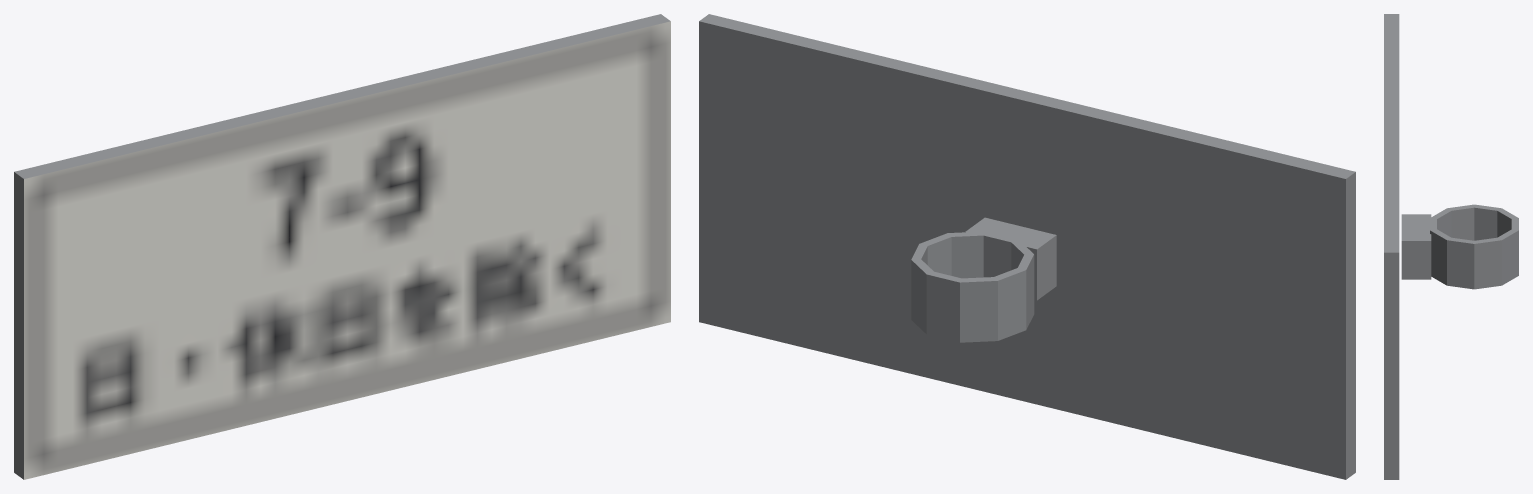
Rendered from SM_Street_SignSub_Time_01.fbx.
The picture shows the model from 3 angles, left to right: view 1: azimuth 30°, elevation 25°; view 2: azimuth 150°, elevation 25°; view 3: azimuth 270°, elevation 25°; orthographic projection. The views are drawn at different scales.
Parts seen in each view (by area): view 1: SM_Street_SignSub_Time_01; view 2: SM_Street_SignSub_Time_01; view 3: SM_Street_SignSub_Time_01.
Part boxes in pixels (<box>): SM_Street_SignSub_Time_01: <box>14,14,670,479</box>; SM_Street_SignSub_Time_01: <box>699,14,1355,479</box>; SM_Street_SignSub_Time_01: <box>1384,14,1518,479</box>.
Size of the model in its own units: 0.45 by 0.2 by 0.1074.
Materials: 1 (1 with a texture image).
